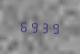nine: (28, 19, 37, 33), (48, 20, 57, 34)
six: (18, 18, 27, 33)
three: (38, 19, 47, 34)
